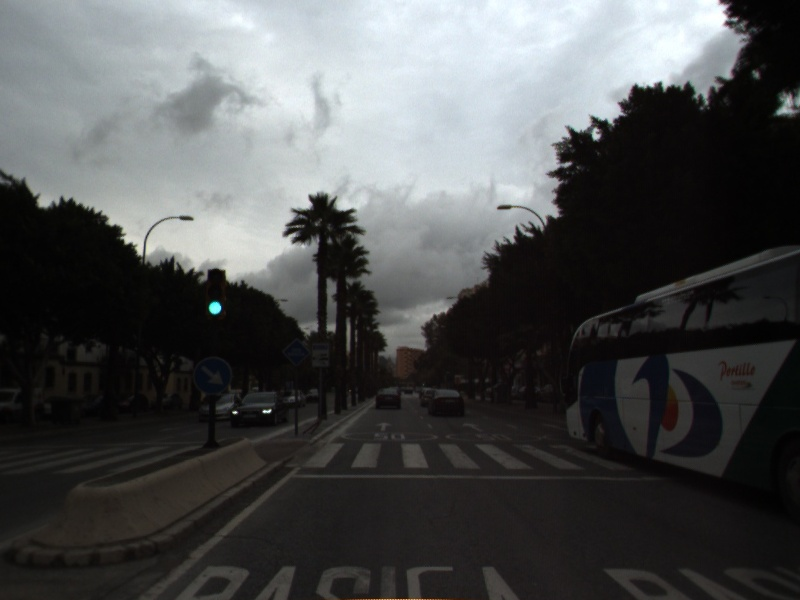STRAIGHT: (460, 420, 486, 435), (373, 420, 395, 433)
